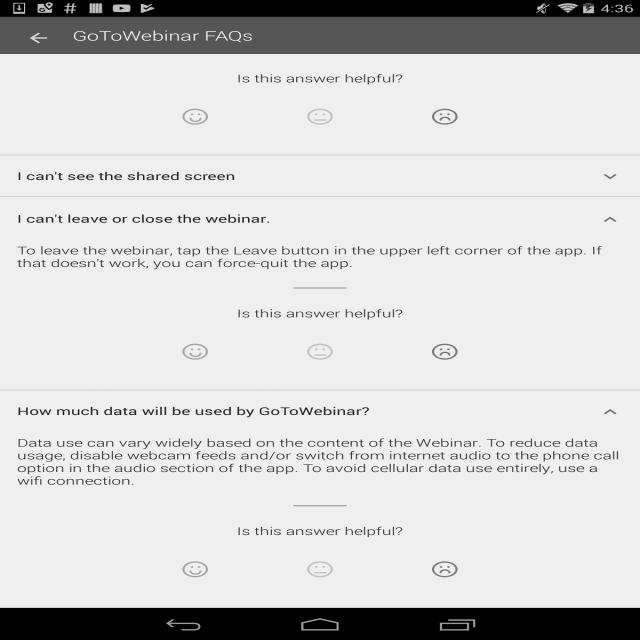ImageButton: (14, 23, 49, 50)
TextView: (11, 442, 611, 491), (13, 245, 609, 271), (7, 207, 303, 230), (18, 404, 387, 419), (62, 25, 266, 48), (11, 168, 243, 188), (243, 522, 421, 547), (236, 299, 407, 325), (232, 68, 408, 89)
